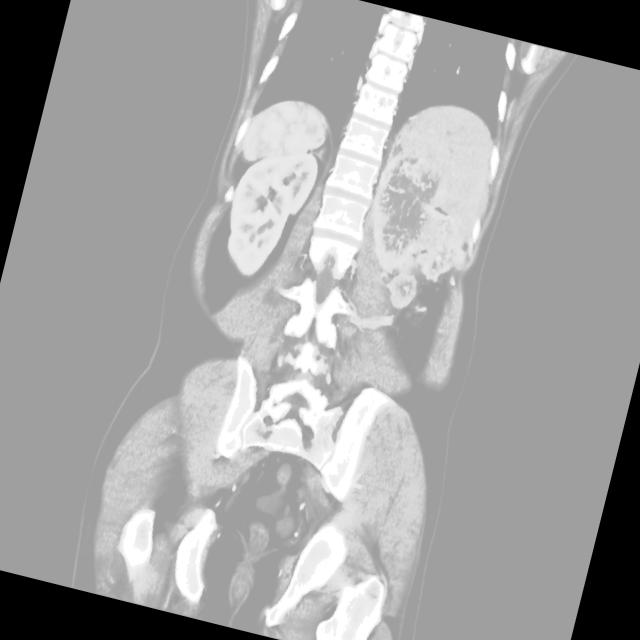TUMOR: (76, 47, 574, 431)
